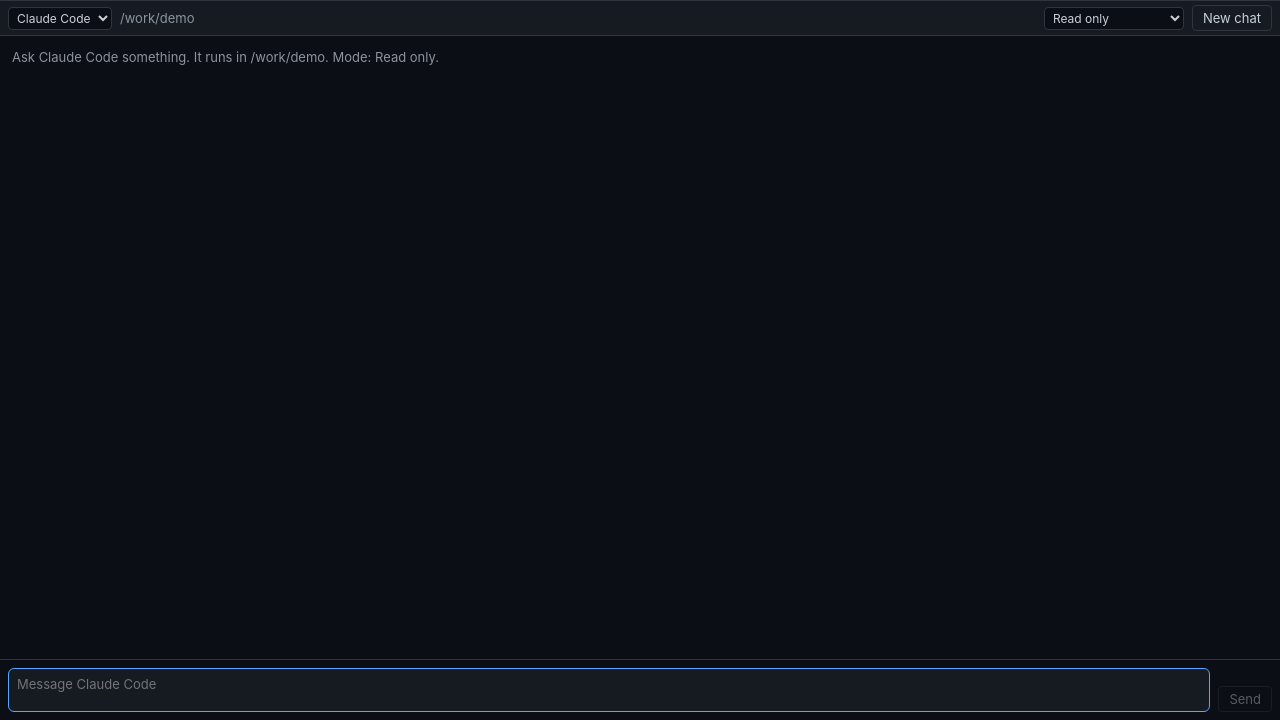
Test: ChatPane › streams Claude lines into one assistant message, shown once
The width and height of the screenshot is (1280, 720).
Type "hi" into the text box labelled "Message" at point(609, 690), box [8,668,1210,712]
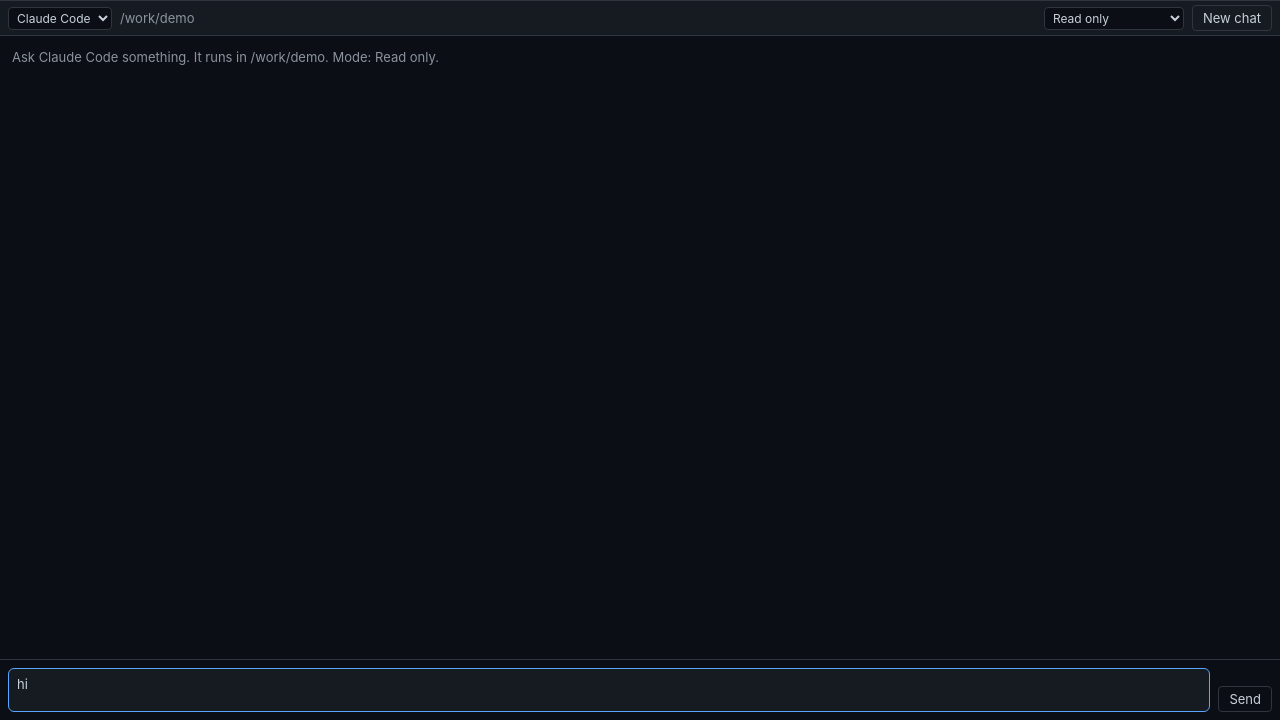
Click the button "Send" at point(1245, 699), box [1218,686,1272,712]
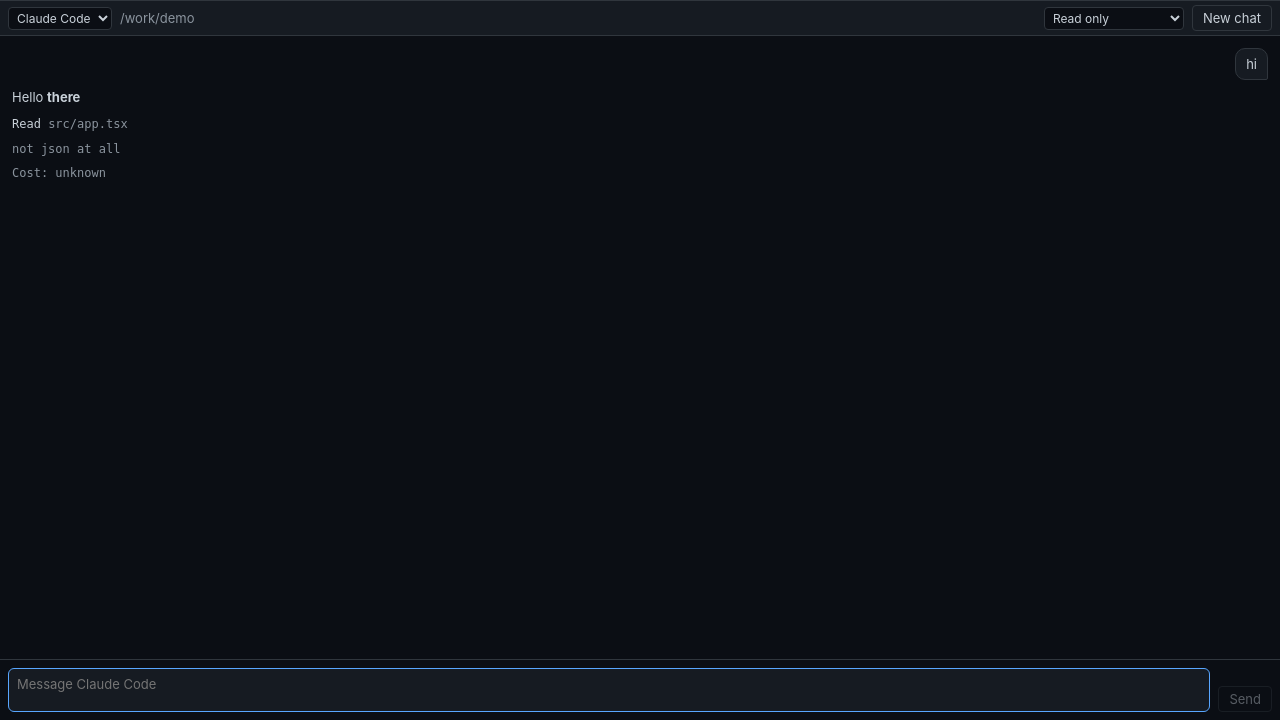
Expected: the text "there" is shown, [47,89,80,105]
